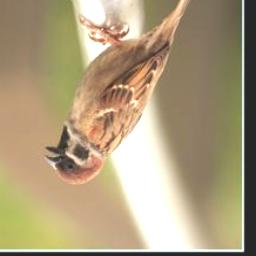Sparrow: (43, 0, 198, 186)
